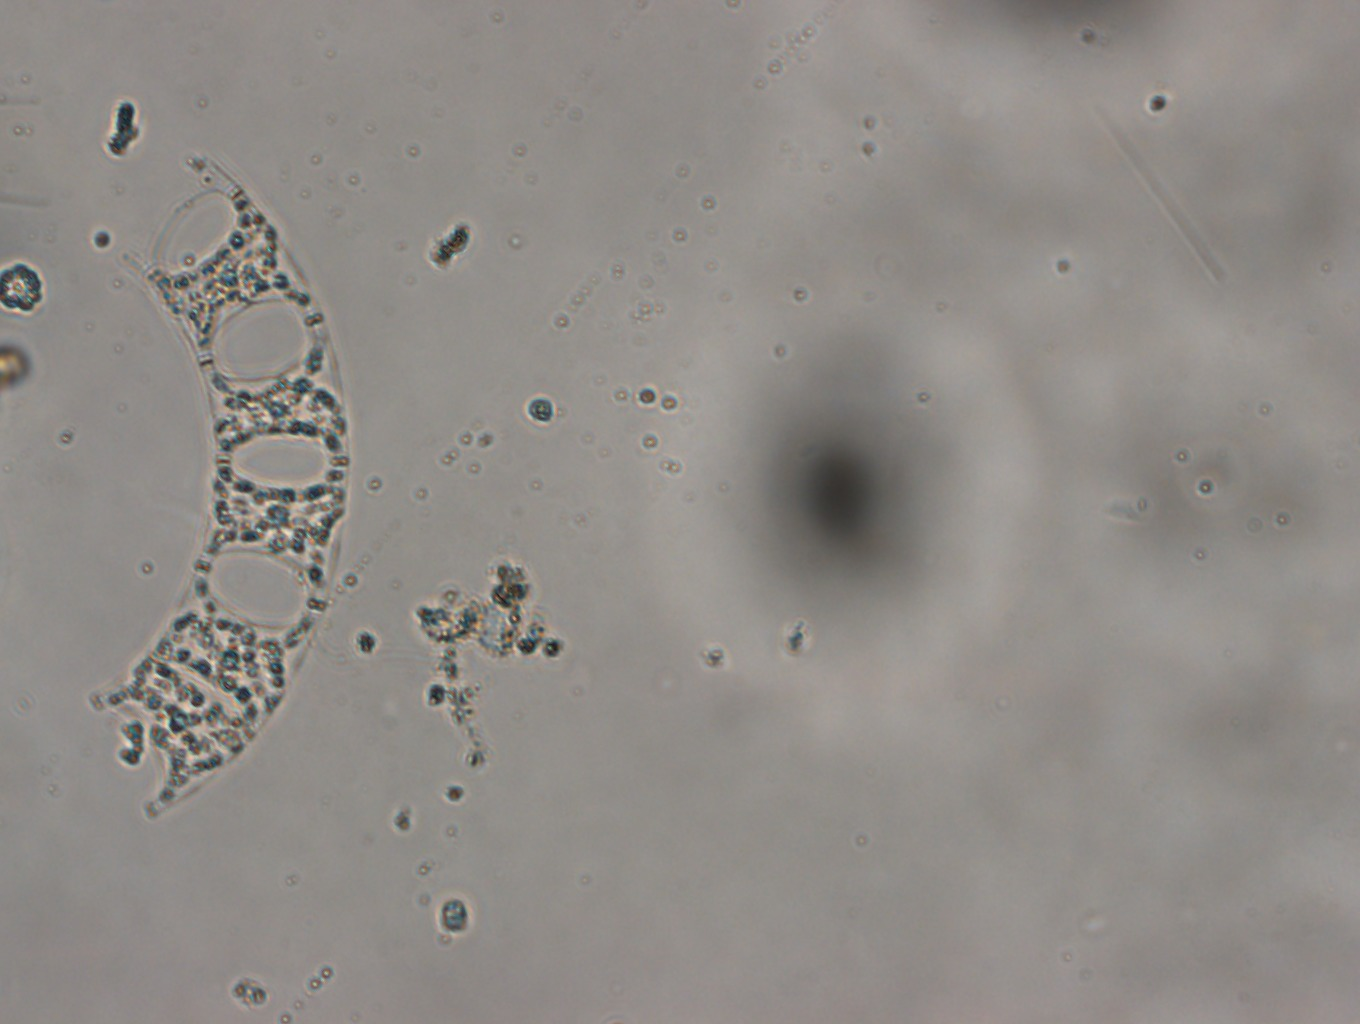eucampia: (114, 154, 356, 822)
